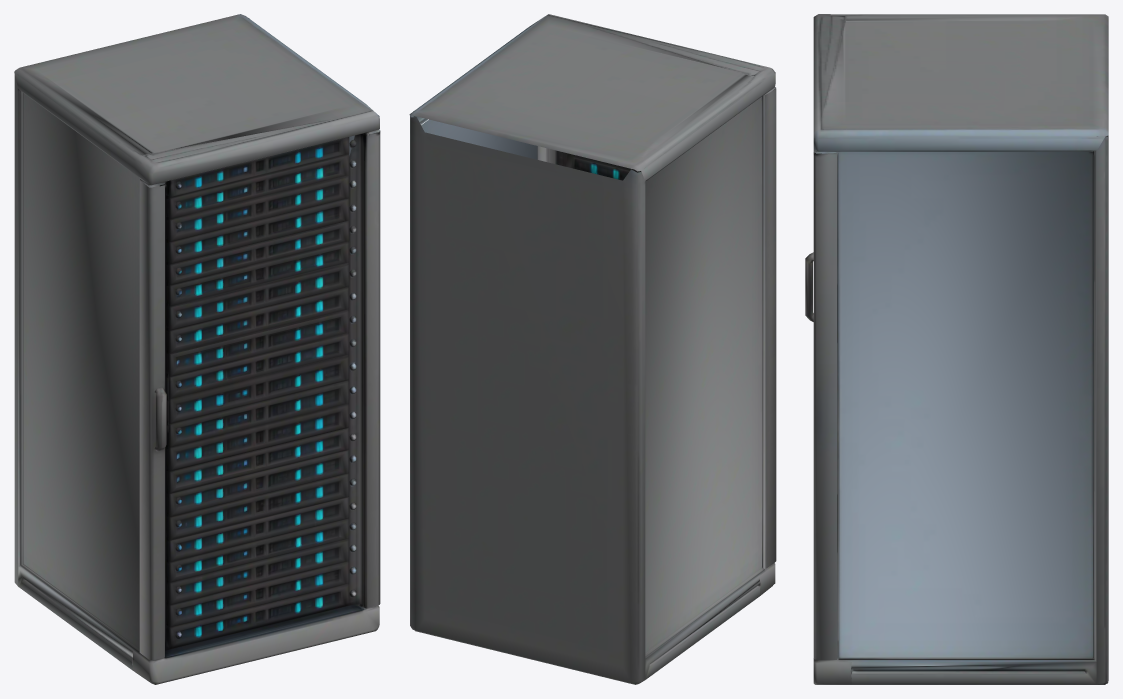
Rendered from server_rack_c2999a18_v2.glb.
3 views of the same model, side by side, from view 1: azimuth 30°, elevation 25°; view 2: azimuth 150°, elevation 25°; view 3: azimuth 270°, elevation 25° (orthographic). The views are drawn at different scales.
Visible parts, largest first — view 1: material; view 2: material; view 3: material.
Boxes of the visible parts, box(x1,y1,x2,y2) form: material: box(14, 14, 380, 684); material: box(409, 14, 776, 684); material: box(805, 14, 1108, 684).
Bounding box in the file's own units: 0.8899 × 1.9 × 0.9415.
Materials: 1 (1 with a texture image).
